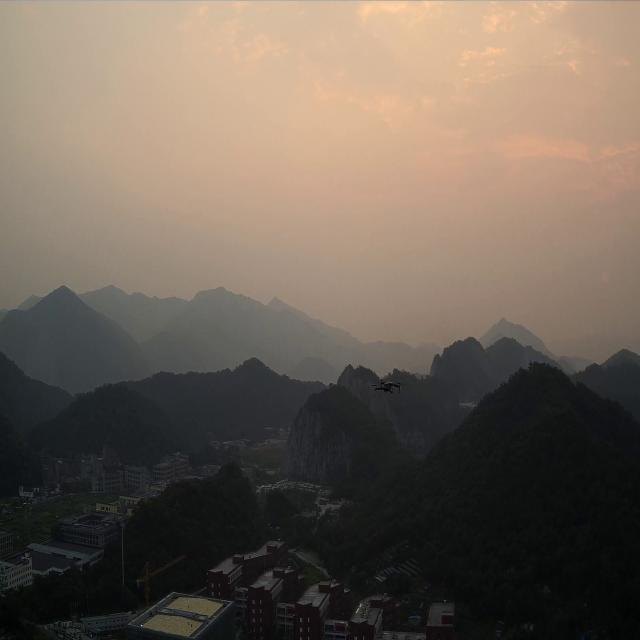UAV: (371, 379, 405, 393)
